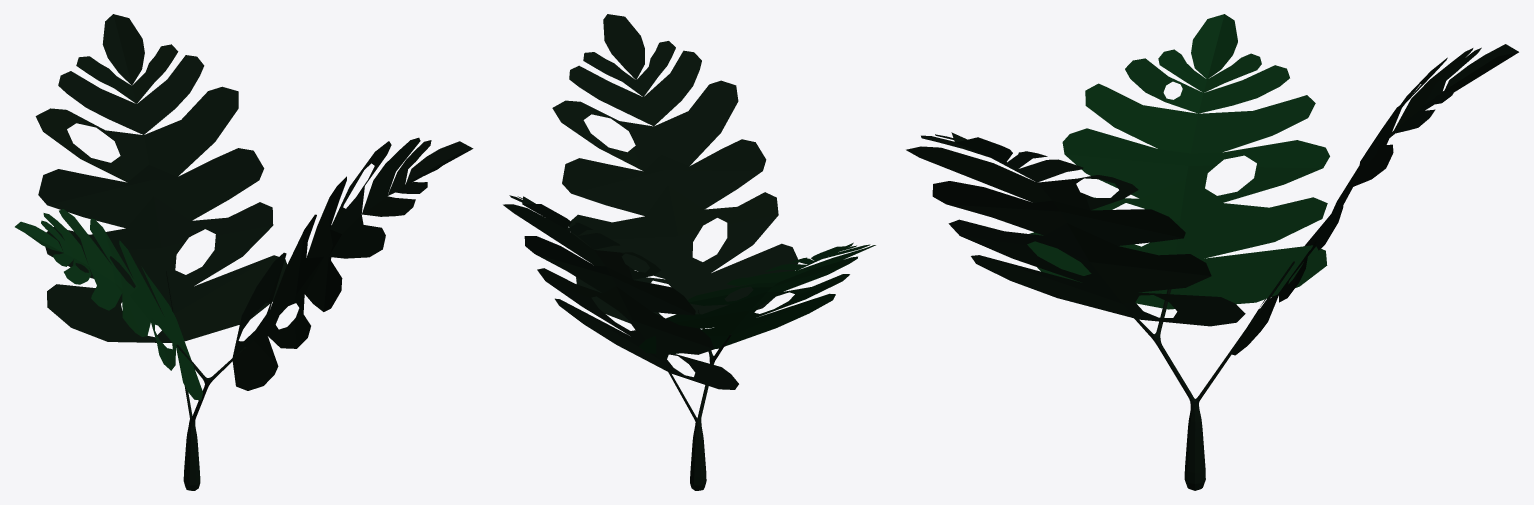
3 views of the same model, side by side, from view 1: azimuth 30°, elevation 25°; view 2: azimuth 150°, elevation 25°; view 3: azimuth 270°, elevation 25° (orthographic). The views are drawn at different scales.
Visible parts, largest first — view 1: lp_Plane_111_Plane_004; view 2: lp_Plane_111_Plane_004; view 3: lp_Plane_111_Plane_004.
Part boxes in pixels (box(x1,y1,x2,y2)): lp_Plane_111_Plane_004: box(15, 14, 473, 490); lp_Plane_111_Plane_004: box(503, 14, 875, 490); lp_Plane_111_Plane_004: box(906, 14, 1518, 490).
Bounding box in the file's own units: 6.8 × 6.84 × 8.11.
